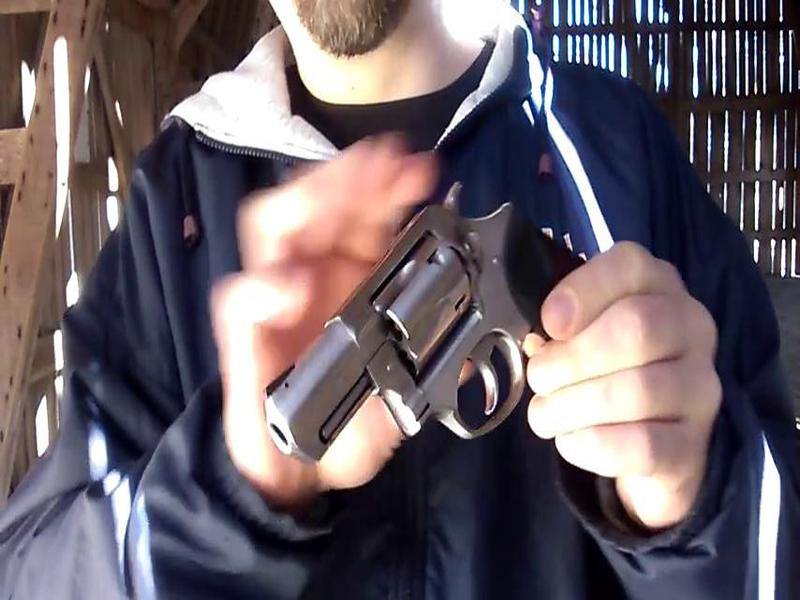Revolver: (283, 174, 565, 464)
